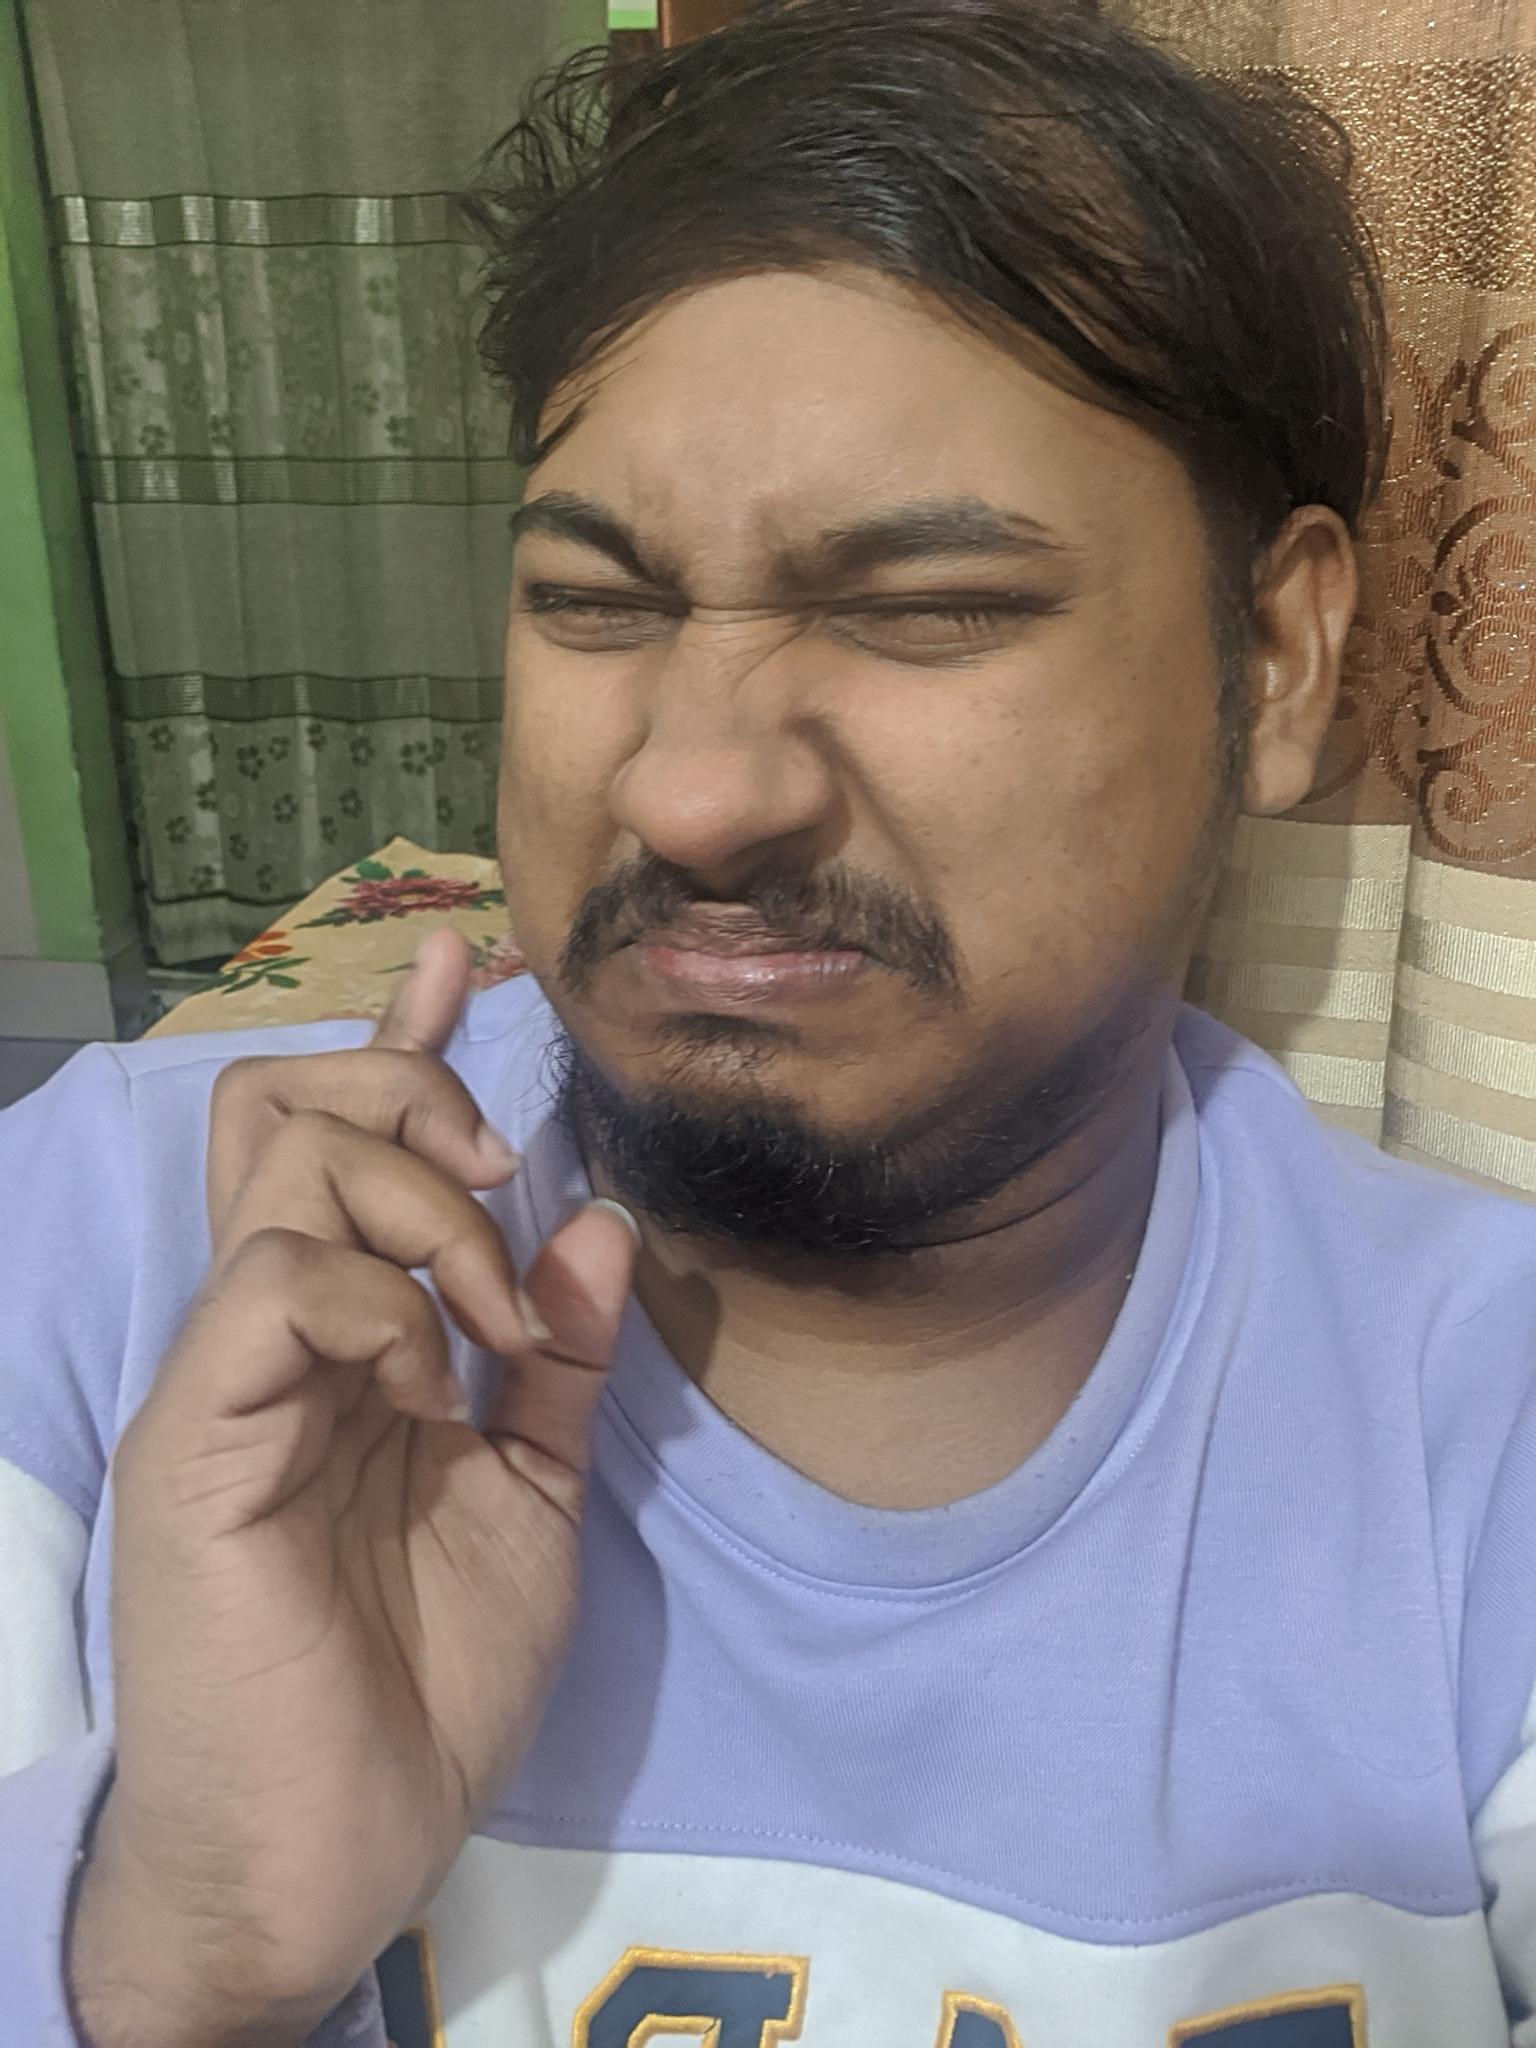Disgust: (442, 398, 1144, 1211)
